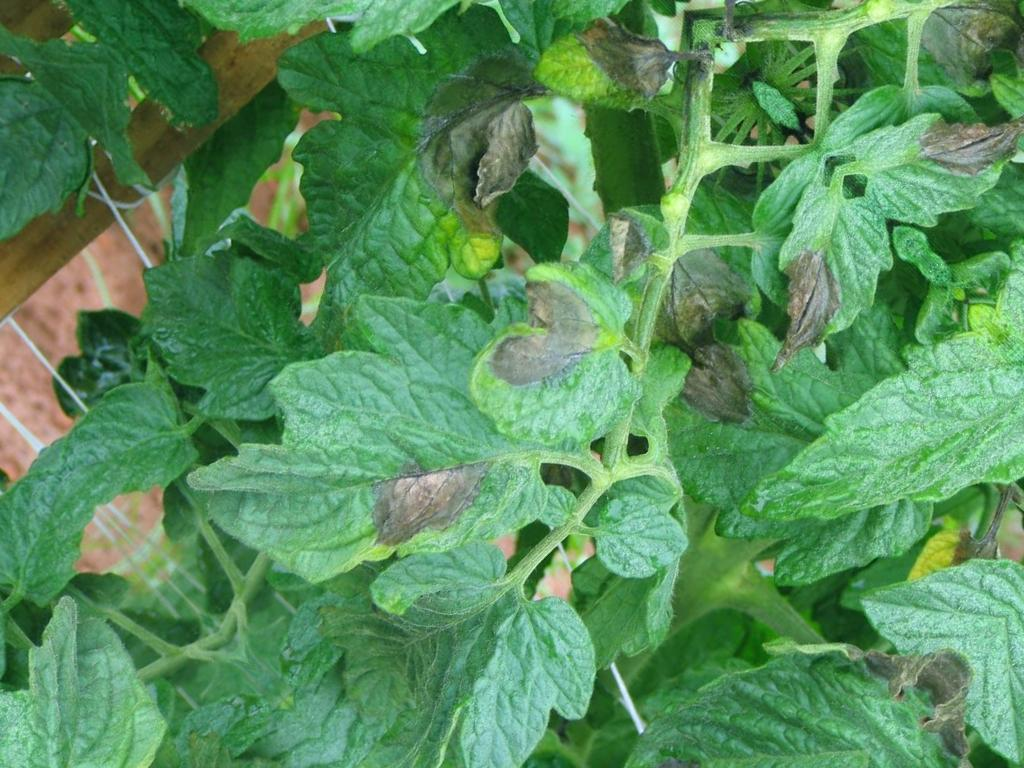Tomato leaf late blight: (161, 237, 616, 692), (167, 0, 629, 366), (432, 242, 680, 489), (710, 168, 915, 371), (509, 0, 707, 163)
